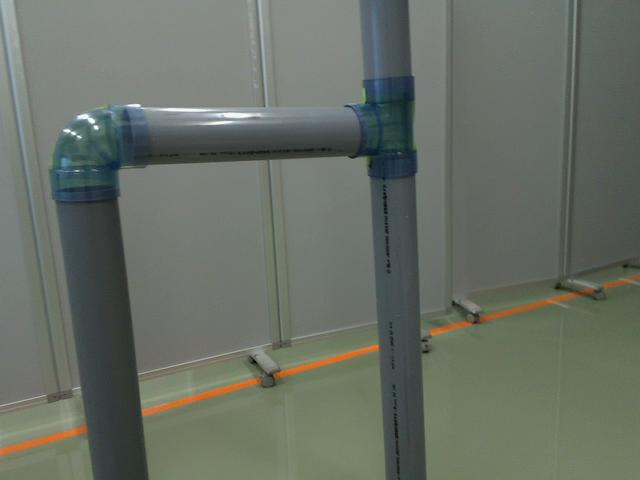bent: (53, 100, 156, 204)
junction: (343, 75, 417, 176)
